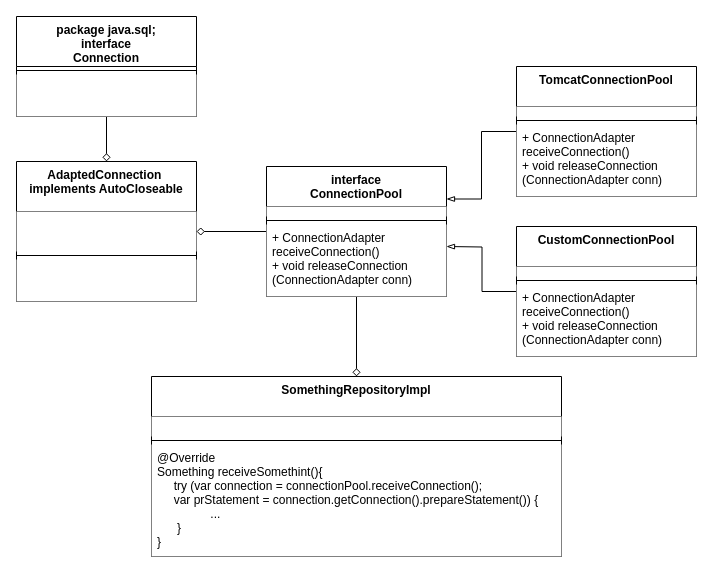
The diagram is 713 pixels wide and 573 high, and some of its shapes have lost their labels. Here are the shapes that lost their labels. From the top down, the centre of each, then its label:
At [106,95]: "+++++++lots of methods+++++ +++++++++++++++++++++++".
At [106,231]: "- conn: Connection - pool: ConnectionPool".
At [106,280]: "+ constructor (Connection conn) + void close()".
At [356,426]: "- connectionPool: ConnectionPool".
